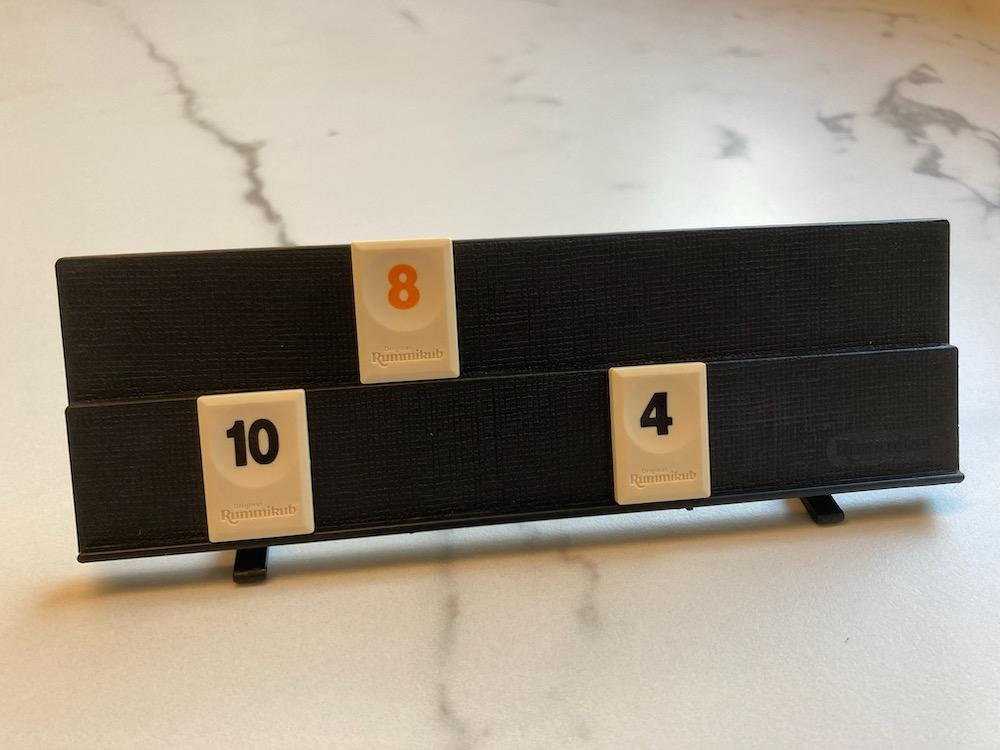black_10: (197, 389, 314, 543)
black_4: (609, 364, 711, 506)
orange_8: (352, 238, 458, 383)
